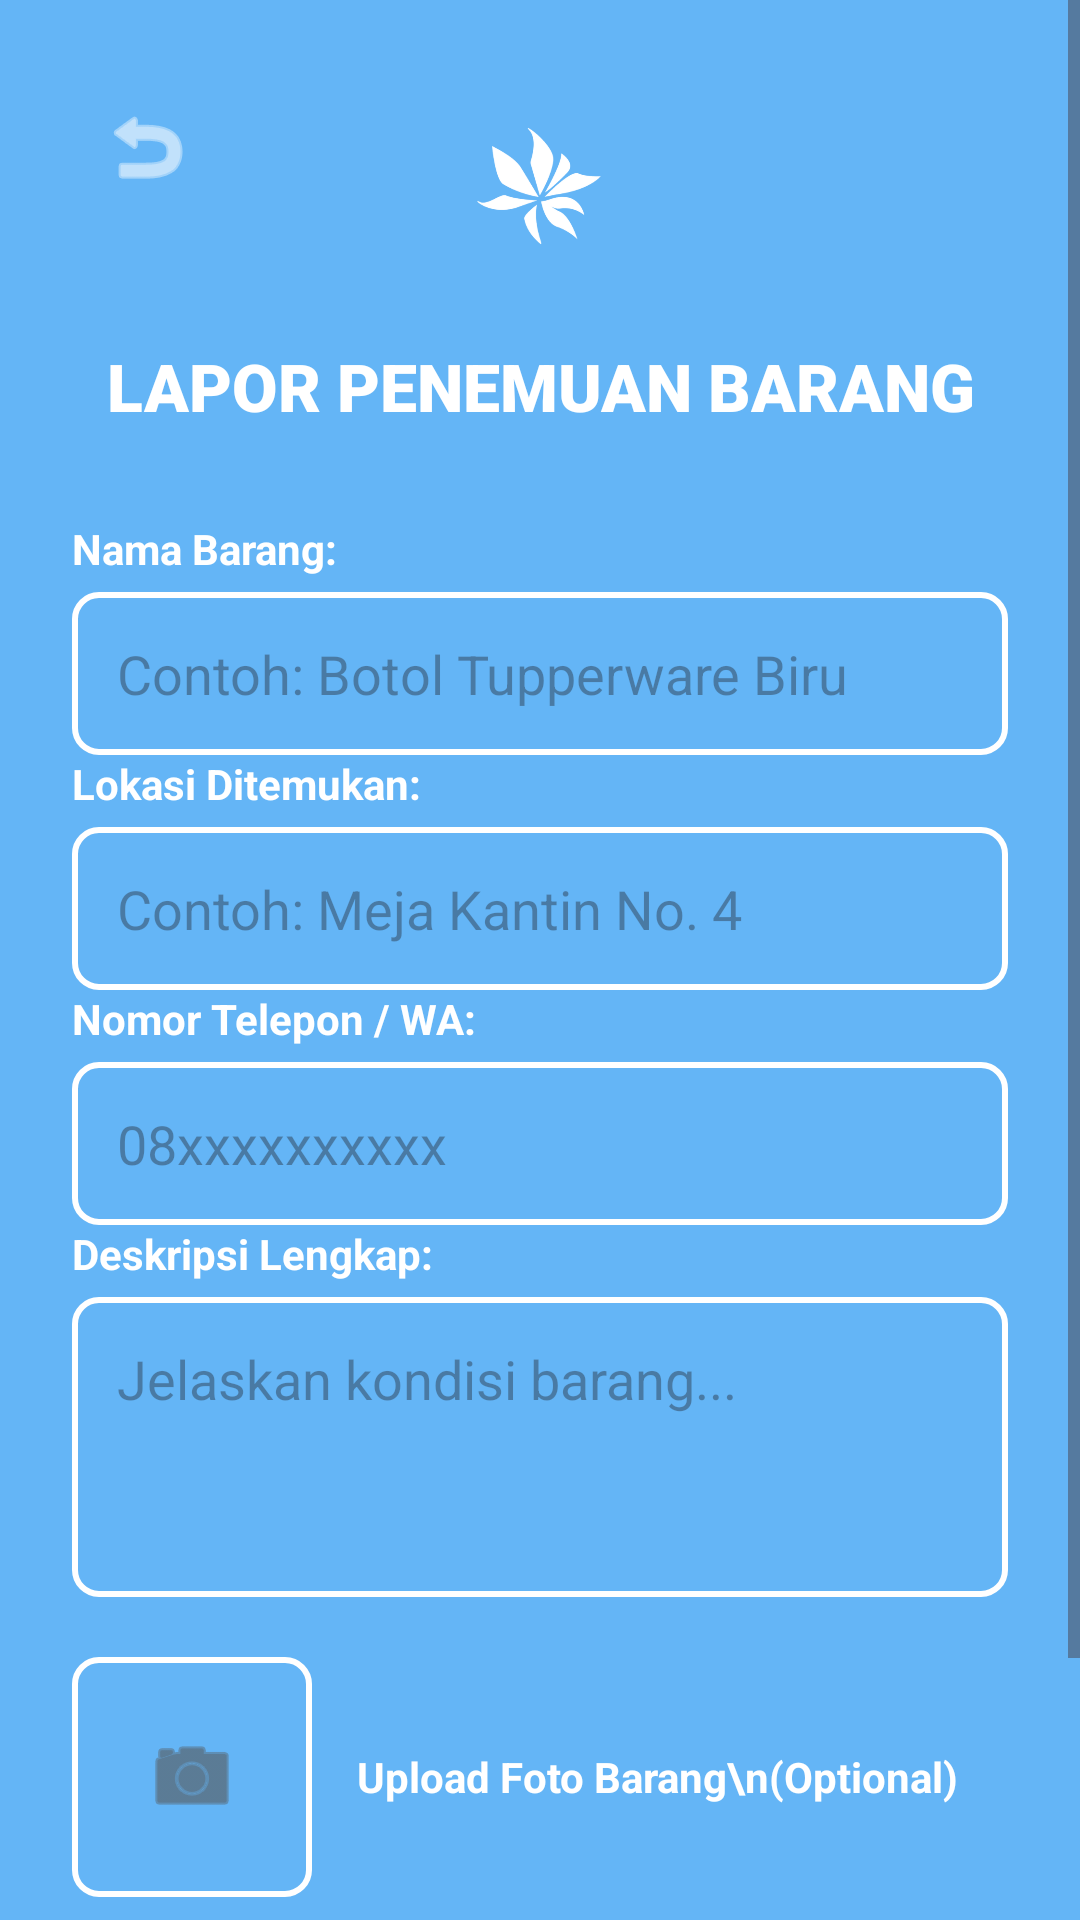

Icon click points for this 1080 x 1920 phone screenshot, format [x,y]:
camera: [192,1777]
revert: [148,148]
